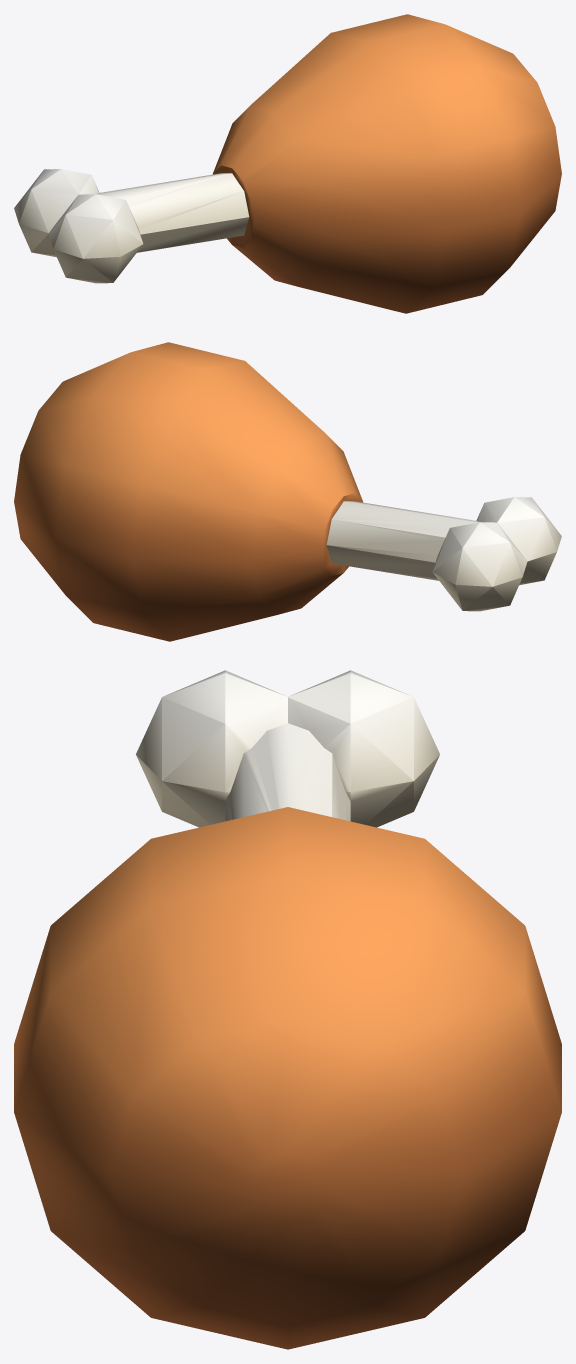
File: ham.glb
3 views of the same model, one above another, from view 1: azimuth 30°, elevation 25°; view 2: azimuth 150°, elevation 25°; view 3: azimuth 270°, elevation 25° (orthographic). The views are drawn at different scales.
Visible parts, largest first — view 1: Item; view 2: Item; view 3: Item.
Boxes of the visible parts, x1,y1,x2,y2 form: Item: (14,14,561,313); Item: (14,342,561,641); Item: (14,670,561,1349).
Bounding box in the file's own units: 1.16 × 0.5848 × 0.612.
1 material, 1 textured.
